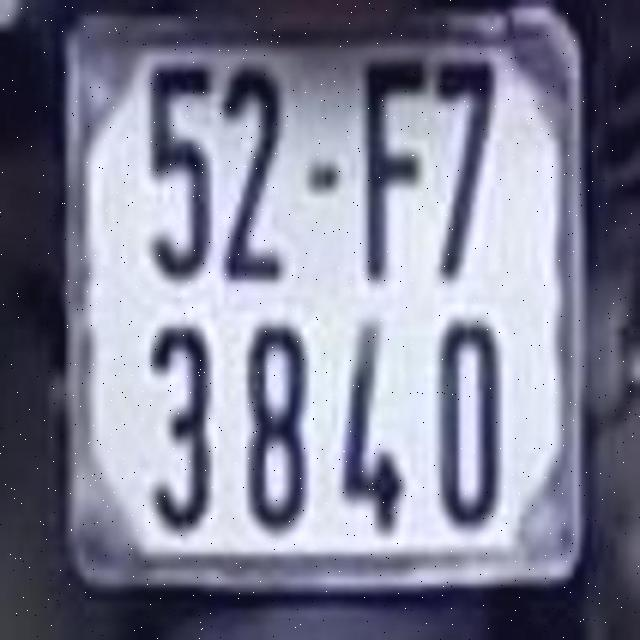0: (433, 312, 505, 528)
2: (222, 65, 286, 282)
3: (147, 320, 214, 531)
4: (340, 315, 407, 534)
5: (146, 62, 214, 279)
7: (433, 53, 500, 281)
8: (244, 321, 309, 532)
F: (358, 52, 428, 281)
